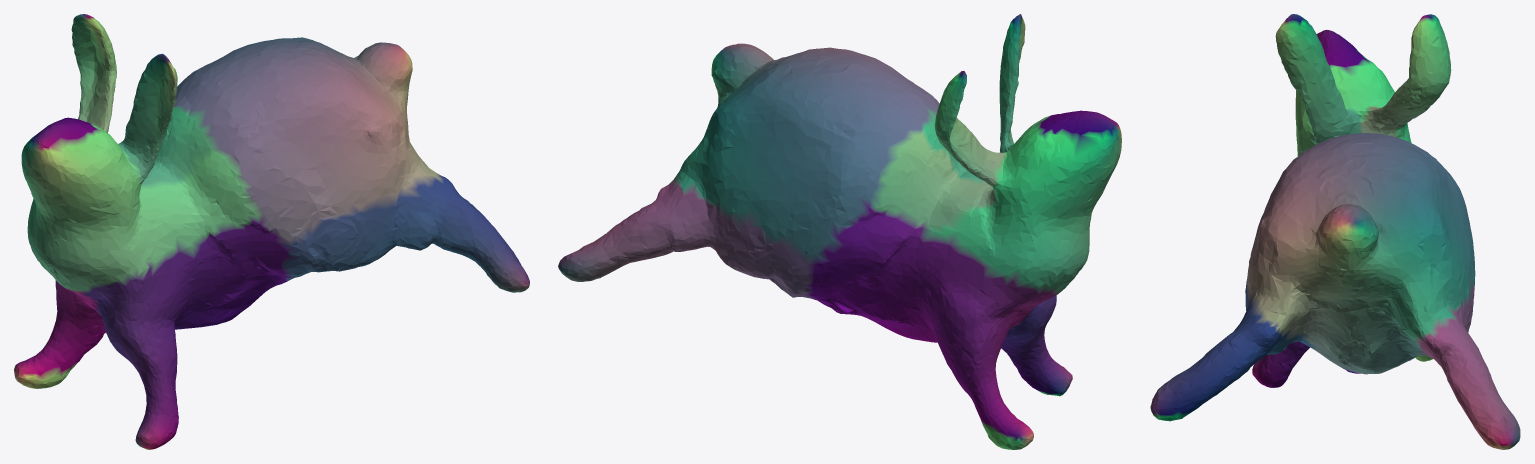
Rendered from rabbit-8.off.obj.
3 renders of one model, left to right at view 1: azimuth 30°, elevation 25°; view 2: azimuth 150°, elevation 25°; view 3: azimuth 270°, elevation 25°, orthographic.
Bounding box in the file's own units: 1.44 × 1.12 × 0.98.
